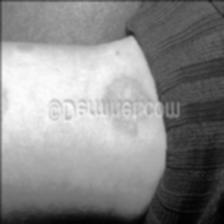Unclassified: (99, 77, 150, 97), (0, 80, 15, 129), (111, 116, 140, 134)
